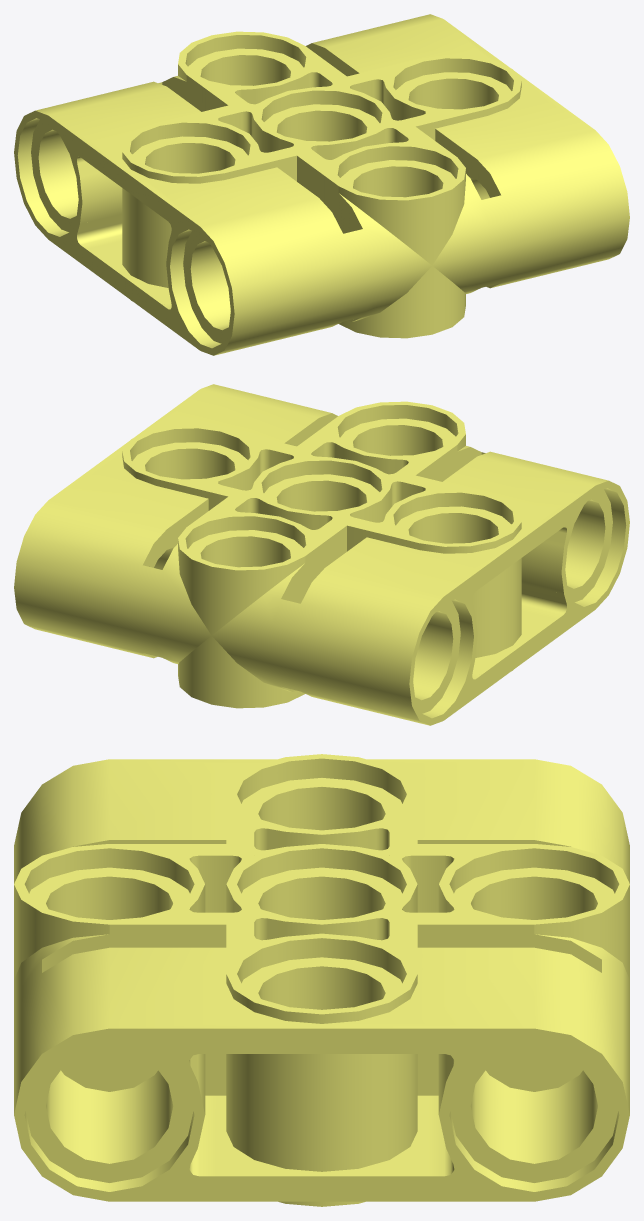
3 renders of one model, top to bottom at view 1: azimuth 30°, elevation 25°; view 2: azimuth 150°, elevation 25°; view 3: azimuth 270°, elevation 25°, orthographic. The views are drawn at different scales.
Visible parts, largest first — view 1: 39793.dat; view 2: 39793.dat; view 3: 39793.dat.
Boxes of the visible parts, x1,y1,x2,y2 form: 39793.dat: [14, 14, 629, 355]; 39793.dat: [14, 384, 629, 725]; 39793.dat: [14, 754, 629, 1206].
Size of the model in its own units: 0.024 by 0.008 by 0.0232.
